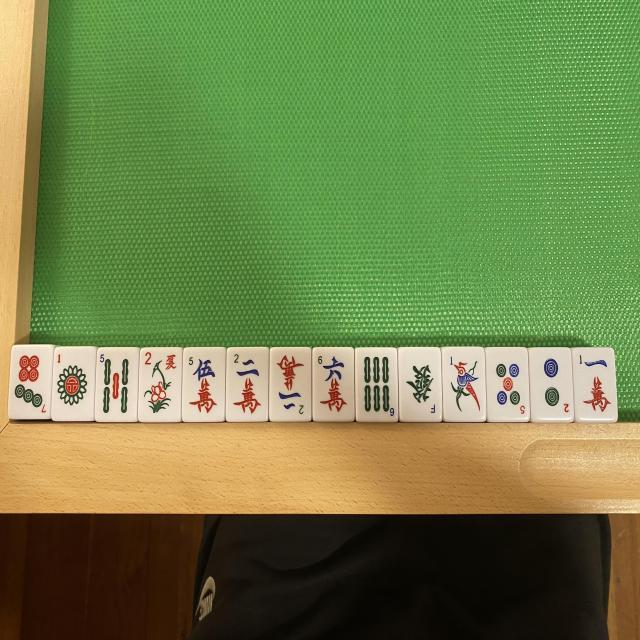bs2: (140, 349, 179, 422)
hdg: (401, 349, 442, 420)
sb1: (444, 351, 486, 421)
sb5: (94, 349, 136, 420)
sb6: (357, 350, 398, 422)
sc1: (574, 348, 614, 419)
sc2: (270, 347, 312, 419), (226, 348, 266, 420)
sc5: (184, 347, 226, 420)
sc6: (316, 348, 356, 420)
sd1: (54, 350, 94, 420)
sd2: (530, 350, 572, 420)
sd5: (491, 352, 529, 420)
sd7: (12, 348, 52, 420)
